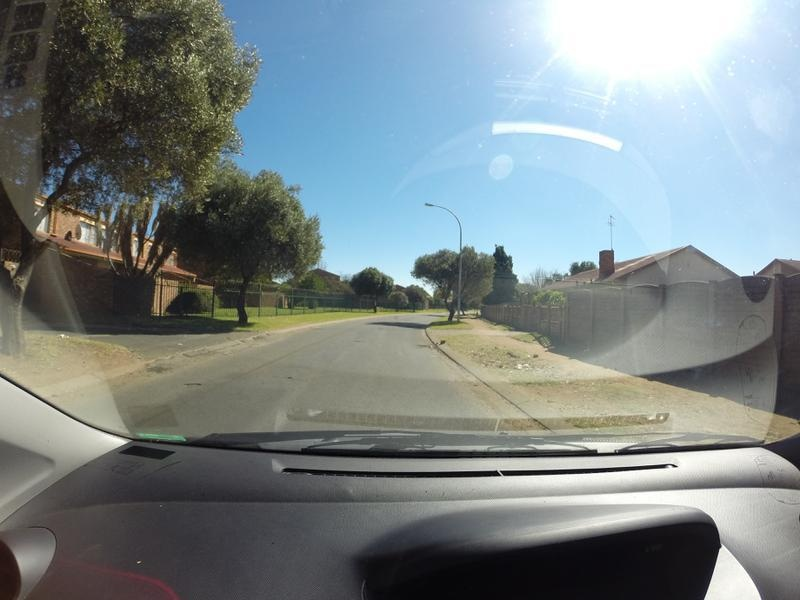pothole: (172, 374, 204, 400)
